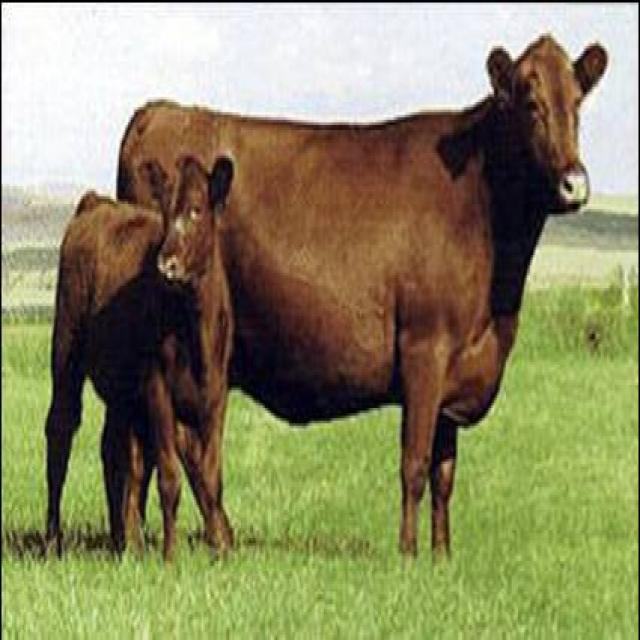cow: (114, 31, 607, 561), (36, 146, 237, 554)
